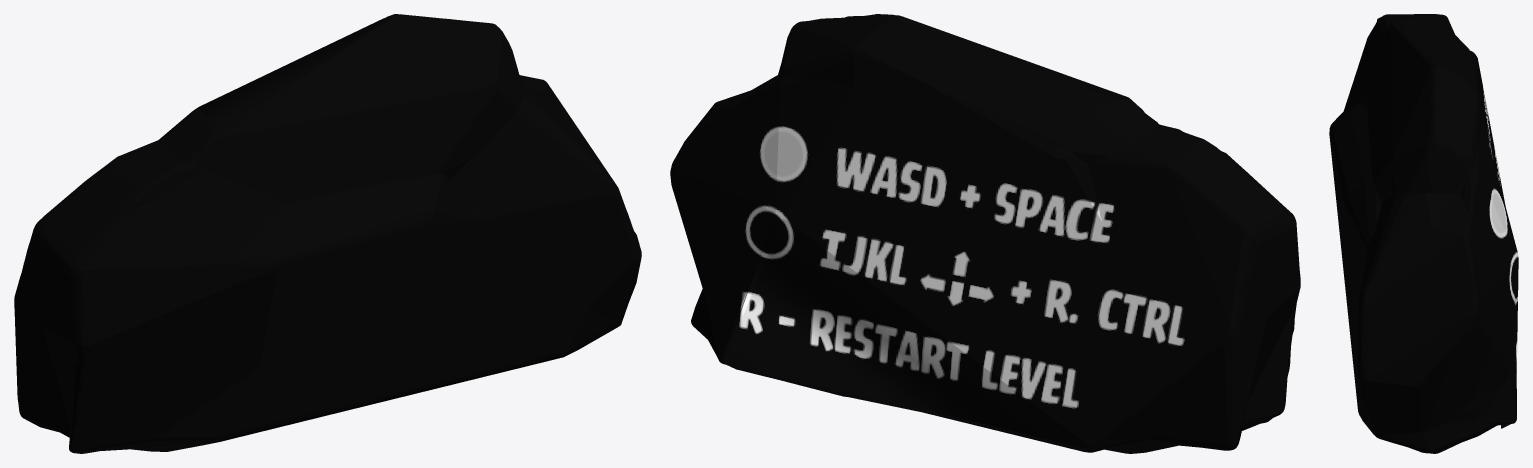
3 views of the same model, side by side, from view 1: azimuth 30°, elevation 25°; view 2: azimuth 150°, elevation 25°; view 3: azimuth 270°, elevation 25° (orthographic). The views are drawn at different scales.
Parts seen in each view (by area): view 1: Cube.001; view 2: Cube.001; view 3: Cube.001.
Part boxes in pixels (bbox=[...]): Cube.001: bbox=[14, 14, 641, 453]; Cube.001: bbox=[670, 14, 1300, 453]; Cube.001: bbox=[1329, 14, 1518, 453].
Size of the model in its own units: 789 by 496 by 257.
Materials: 1 (1 with a texture image).
